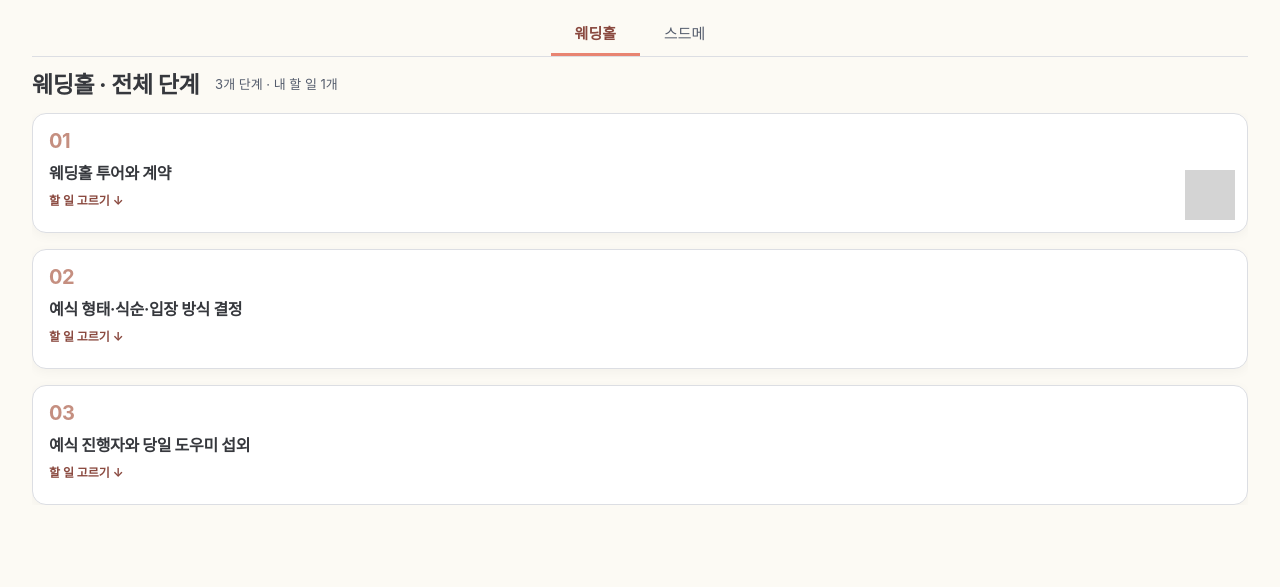
AllPreparationStepsFeature 비로그인 체크리스트 › 로컬 저장 실패 시 화면을 유지하고 같은 동작을 다시 시도할 수 있다
Expected: the heading "웨딩홀 · 전체 단계" is shown, [32,69,199,101]
Click the button "01 웨딩홀 투어와 계약 할 일 고르기 ↓" at (110, 173), box [32,113,1248,233]
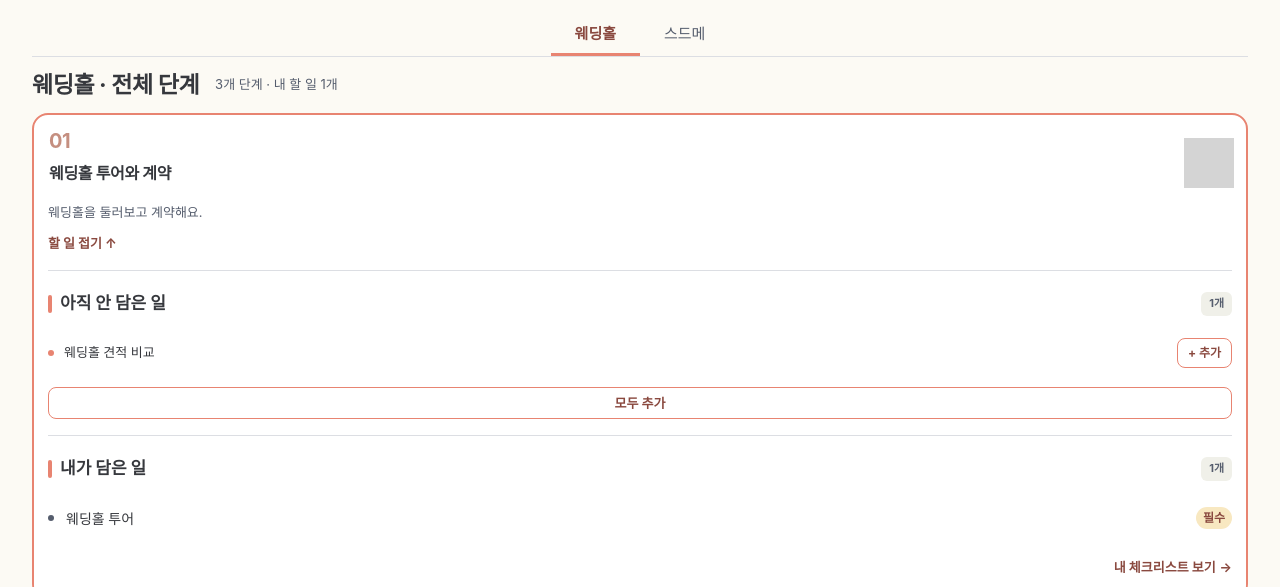
Click the button with aria-label "웨딩홀 견적 비교 추가" at (1204, 353), box [1177,338,1232,368]
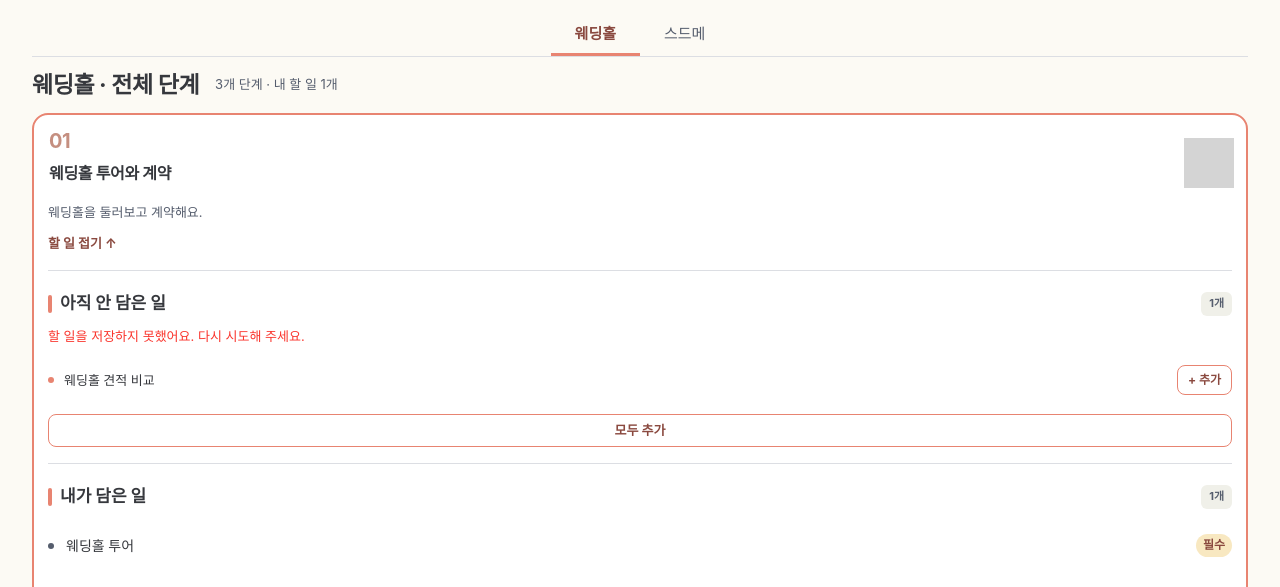
Expected: the button with aria-label "웨딩홀 견적 비교 추가" is shown
Expected: the message reads "할 일을 저장하지 못했어요. 다시 시도해 주세요.", [48,328,305,344]
Click the button with aria-label "웨딩홀 견적 비교 추가" at (1204, 380), box [1177,365,1232,395]
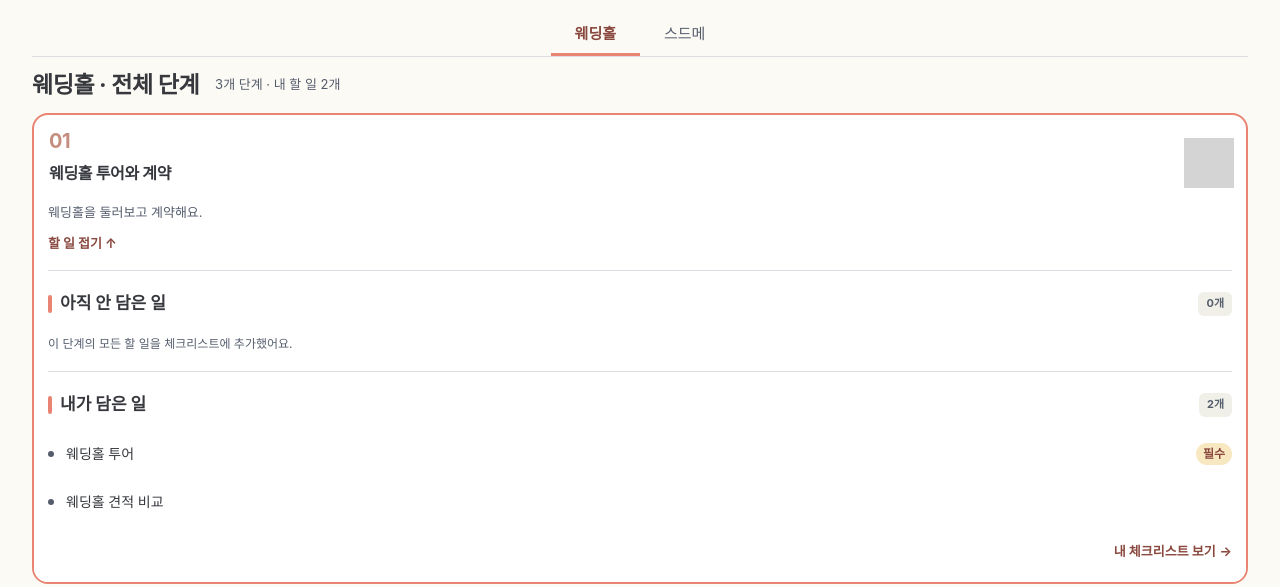
Expected: the message "할 일을 저장하지 못했어요. 다시 시도해 주세요." is gone
